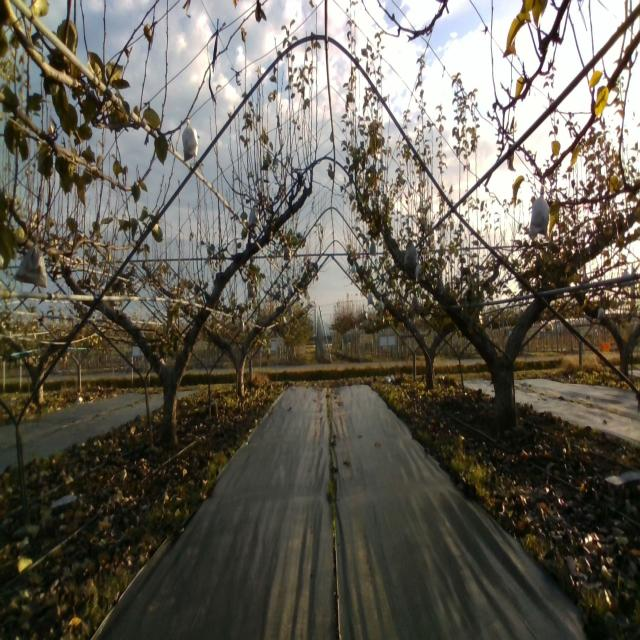pearbags: (529, 185, 550, 237), (182, 118, 198, 162), (247, 202, 263, 232), (403, 242, 417, 269), (415, 264, 426, 282)
